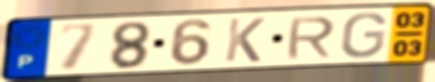6: (168, 17, 214, 68)
7: (58, 21, 99, 73)
8: (108, 19, 154, 70)
G: (338, 11, 389, 60)
K: (222, 17, 267, 64)
R: (283, 15, 338, 61)
